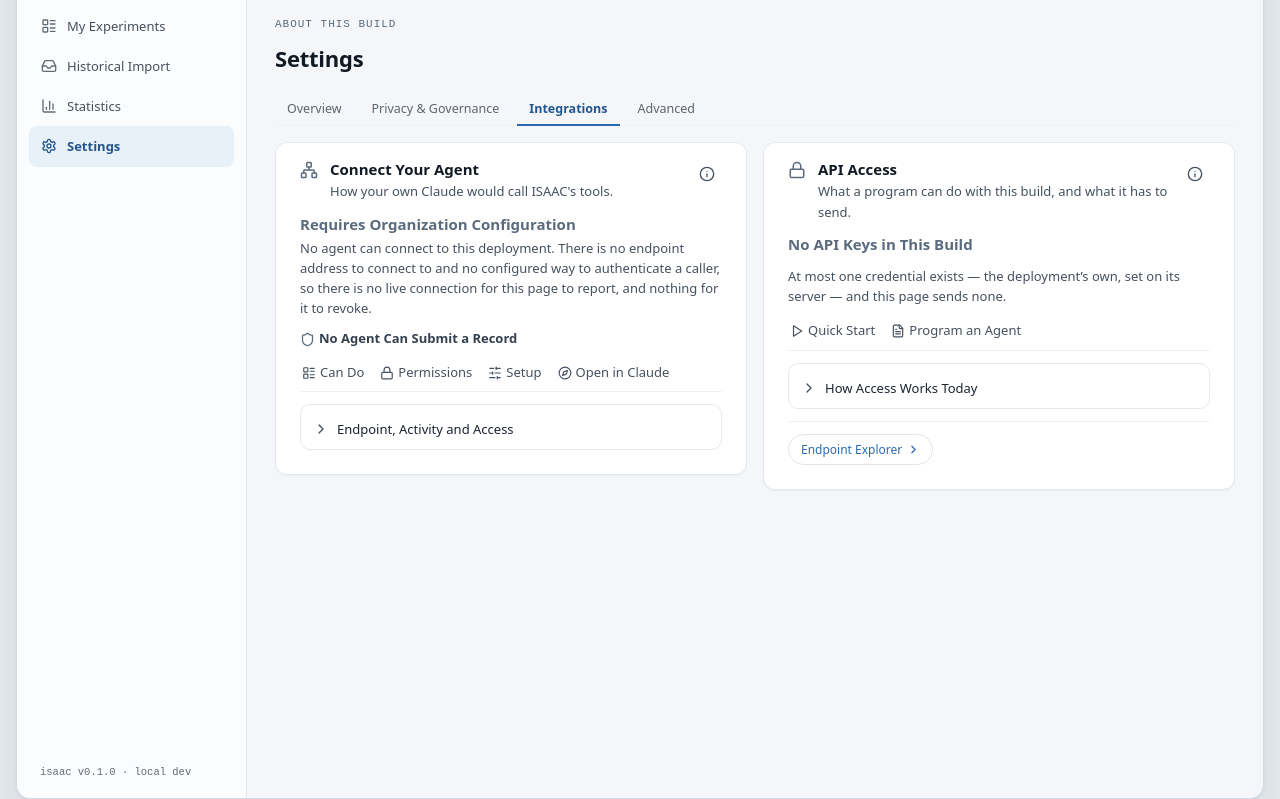
Test: Settings → API Access — an honest unavailable state › links into the Endpoint Explorer from the widget footer
Step 1. Click the button with id "settings-apiaccess-heading-tab-quick-start" → (833,334), box top-left (788, 318), bottom-right (877, 350)
(page scrolled)
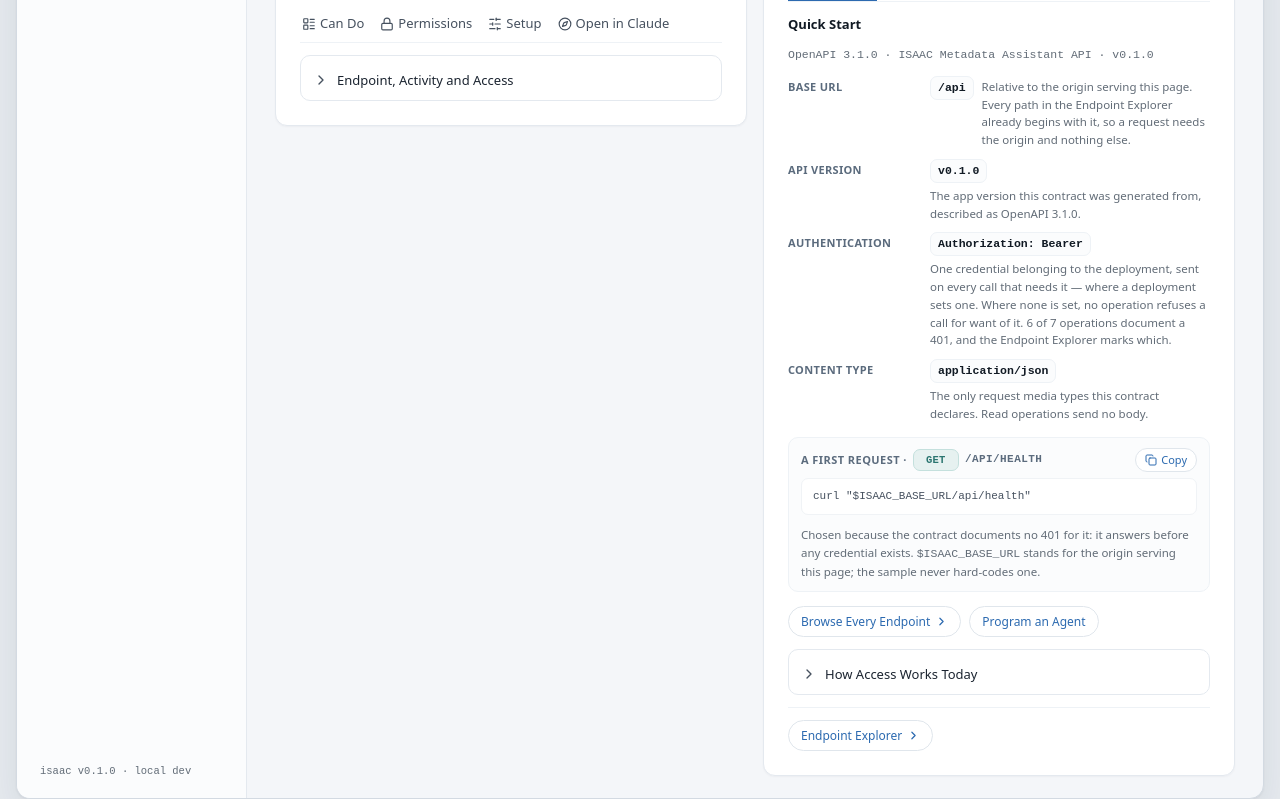
Now the heading "Quick Start" is shown, box top-left (788, 15), bottom-right (861, 33)
Step 2. Click the button "Endpoint Explorer" → (861,735), box top-left (788, 720), bottom-right (933, 751)
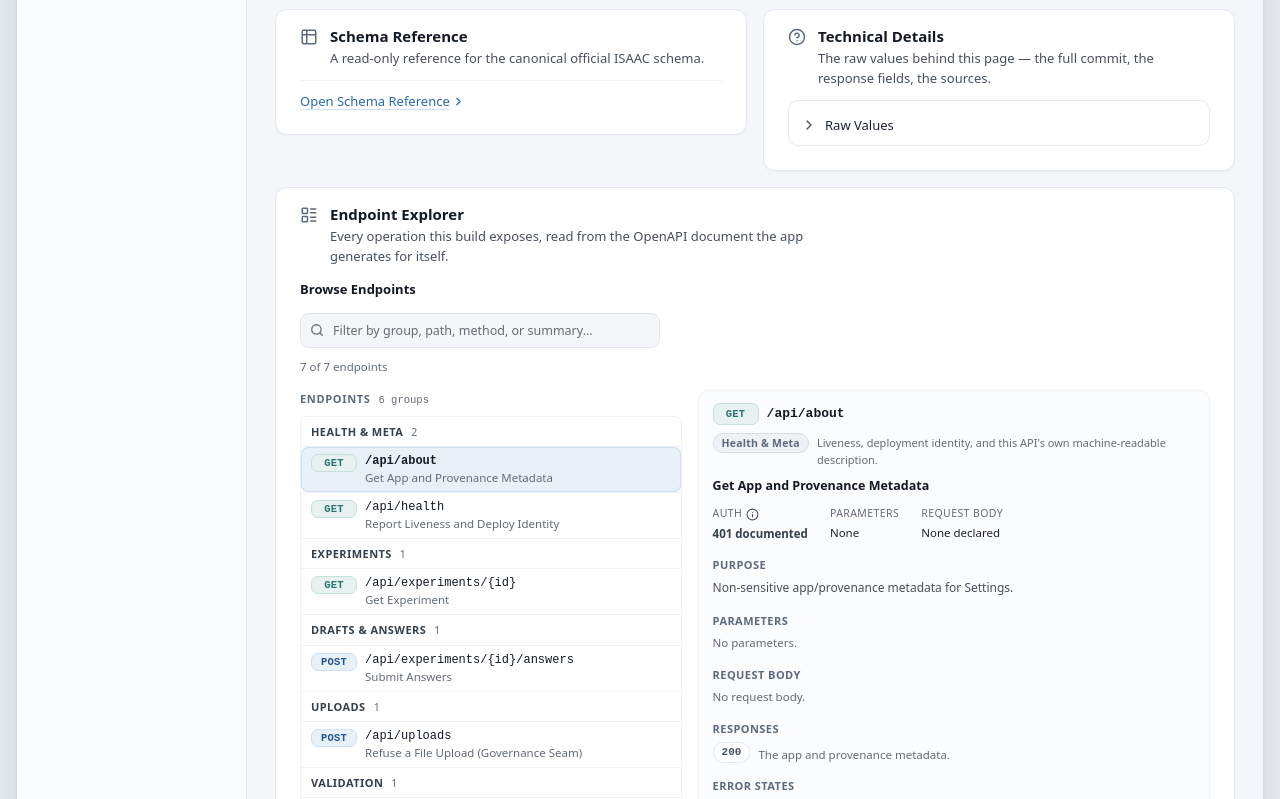
Now the heading "Browse Endpoints" is shown, box top-left (300, 280), bottom-right (416, 298)
